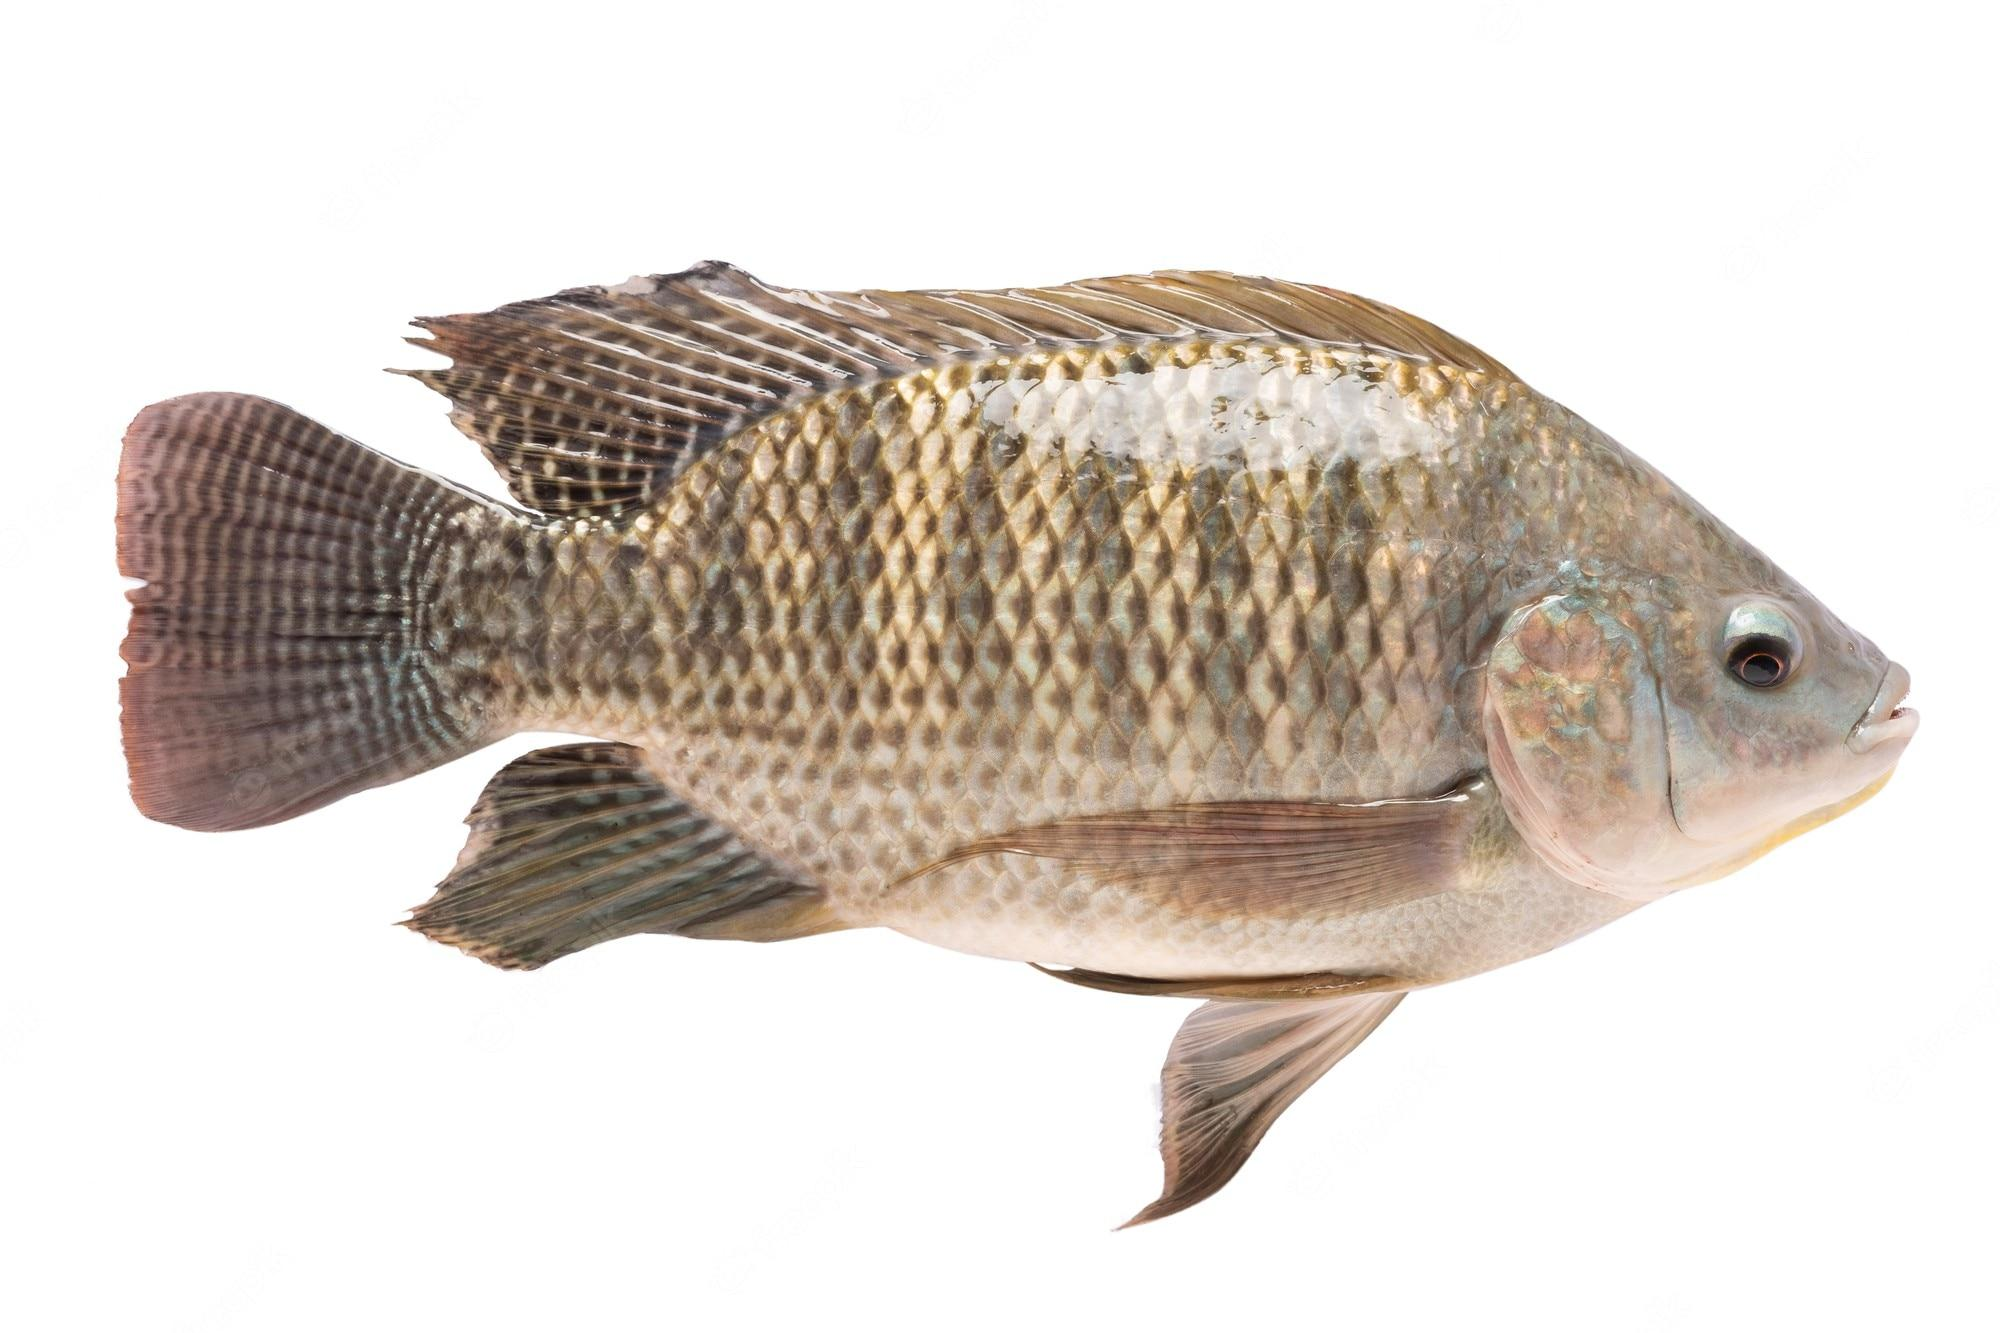Tilapia: (128, 269, 1924, 1230)
